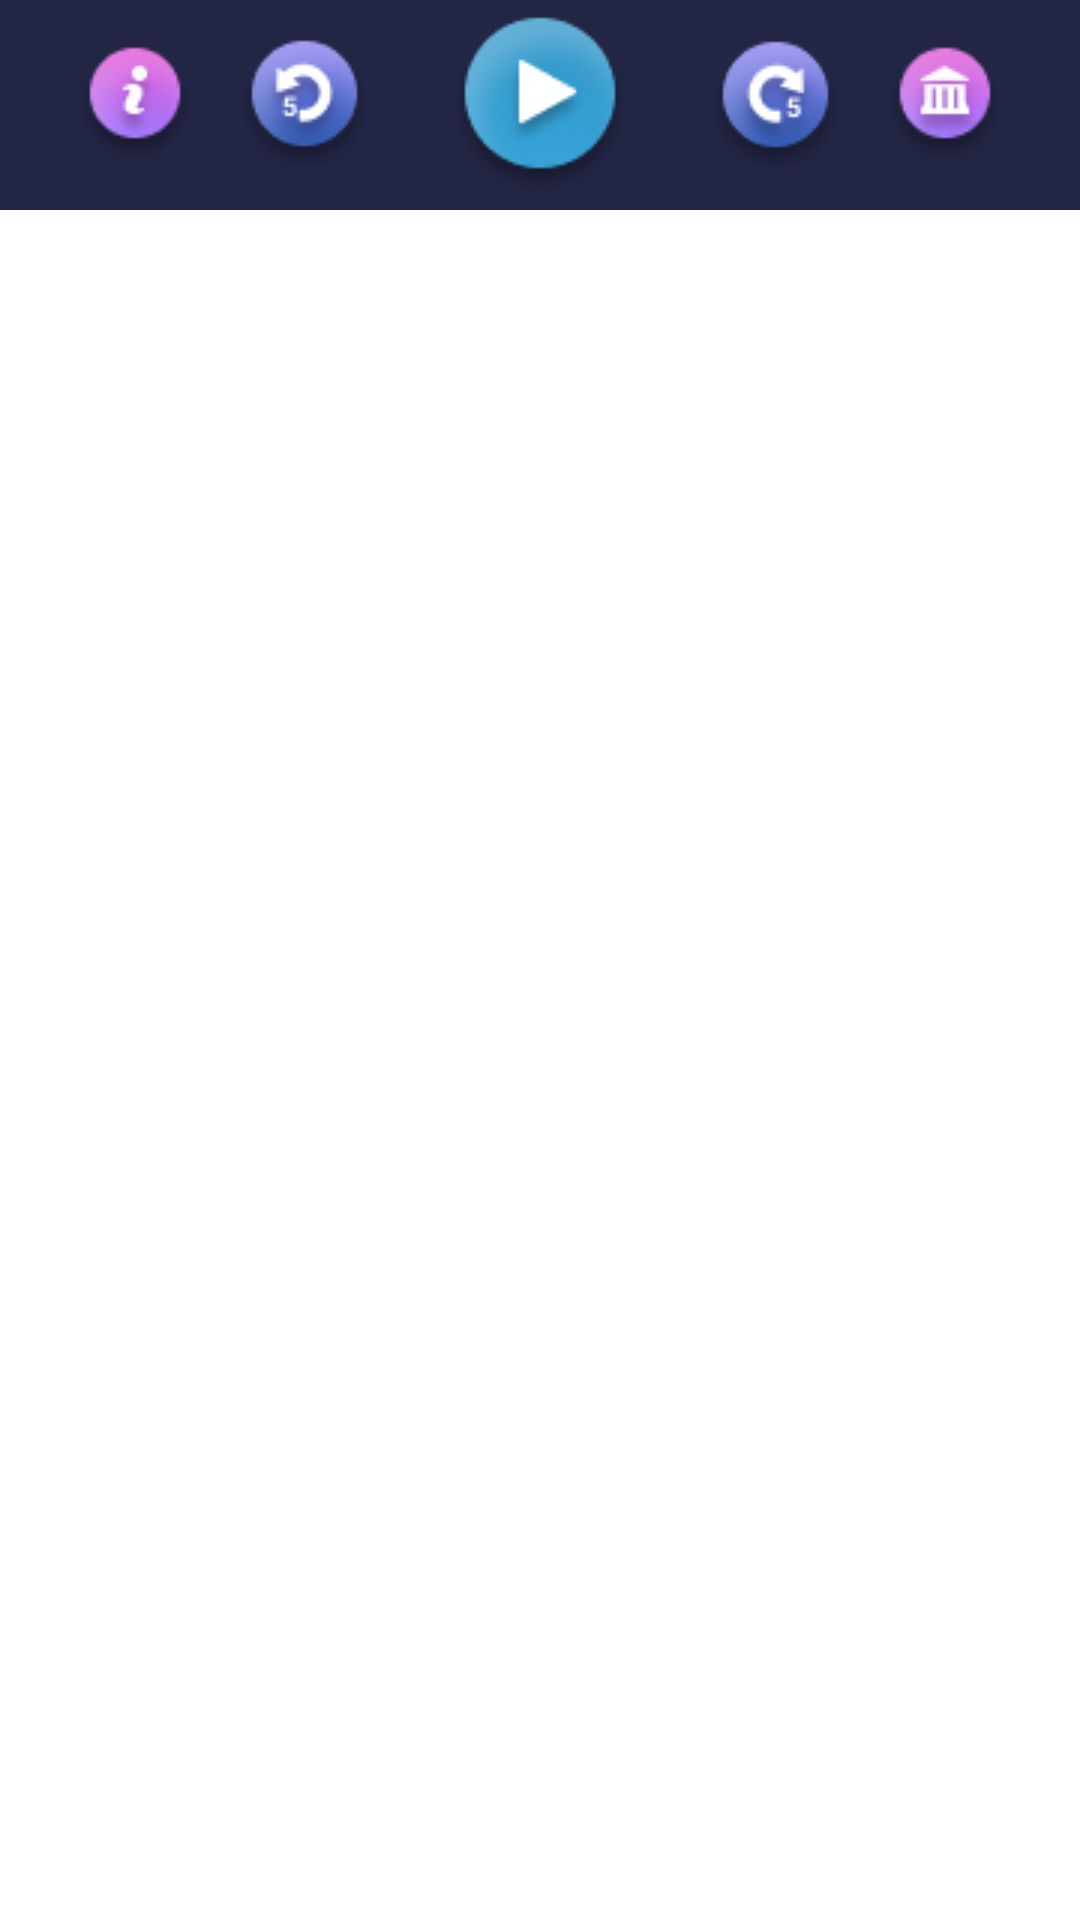

Screen size 1080px x 1920px. Icon name, then its center in pixels as (x,y):
mus: (945,93)
play: (540,93)
